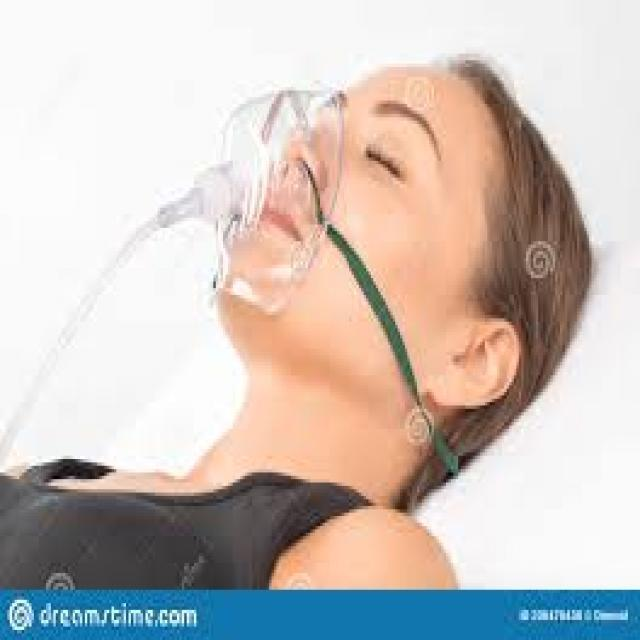oxygen_mask: (113, 80, 343, 347)
